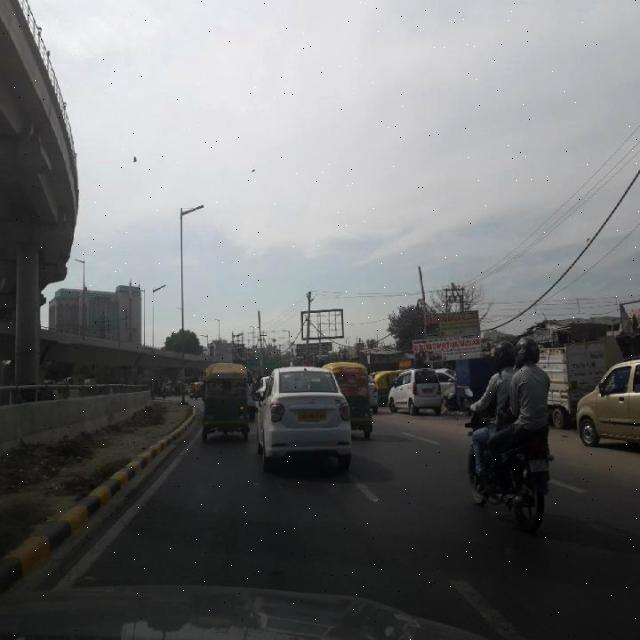D44: (450, 567, 511, 632)
